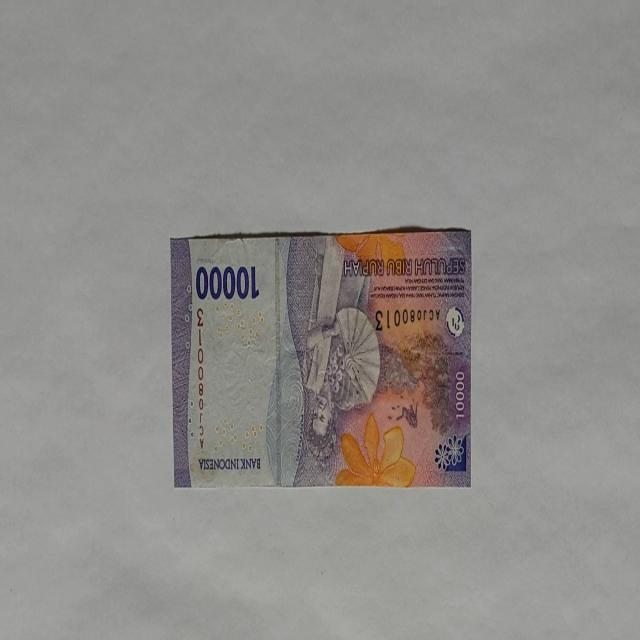sepuluh ribu rupiah: (170, 226, 472, 489), (193, 262, 260, 302)
